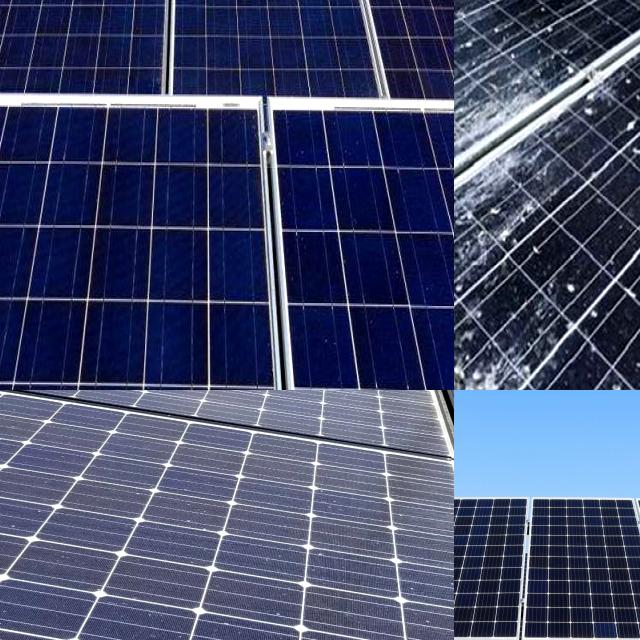bird: (454, 258, 515, 345), (454, 155, 508, 248), (552, 268, 610, 335), (454, 52, 487, 161), (454, 107, 505, 151), (609, 103, 638, 151), (454, 0, 490, 33), (454, 146, 476, 185), (507, 0, 551, 19)
crack: (0, 93, 302, 390), (263, 97, 454, 390), (166, 0, 384, 132), (504, 470, 640, 640), (0, 0, 178, 126), (325, 0, 454, 151), (454, 461, 544, 640), (118, 0, 265, 55), (230, 0, 373, 56), (9, 0, 145, 57), (331, 0, 454, 54), (0, 0, 80, 57)
